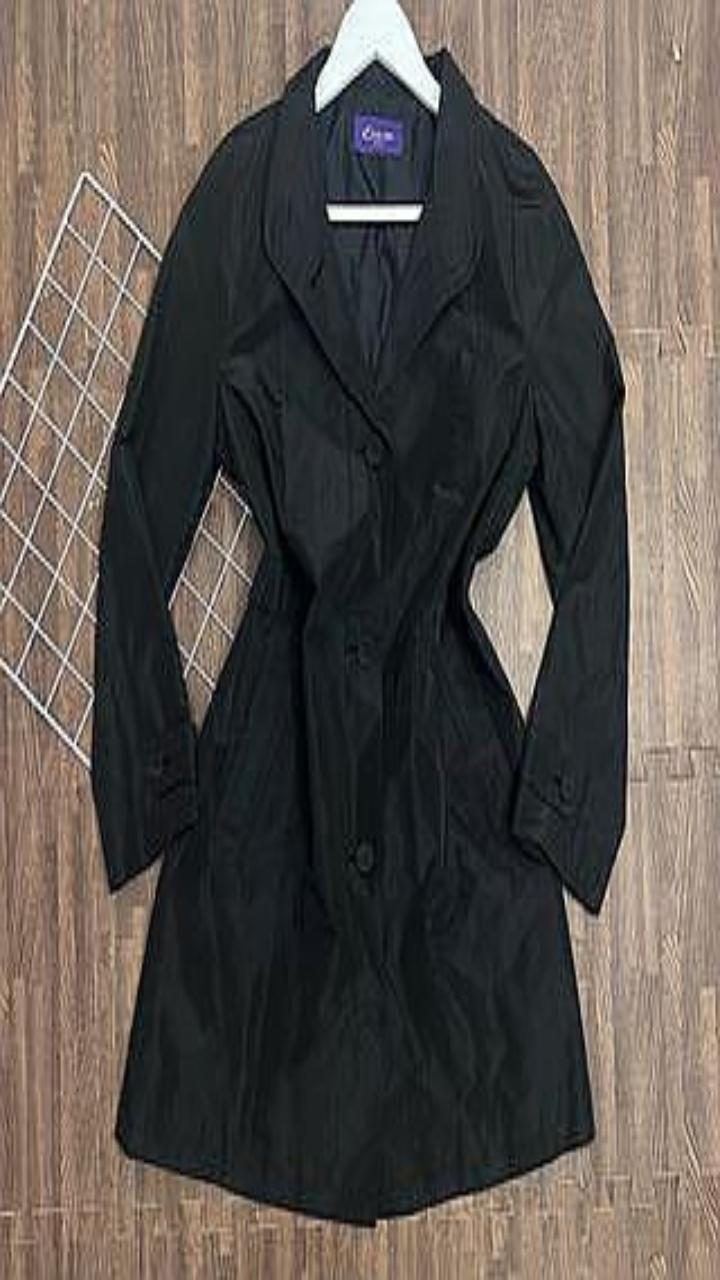Coat: (91, 45, 628, 1223)
